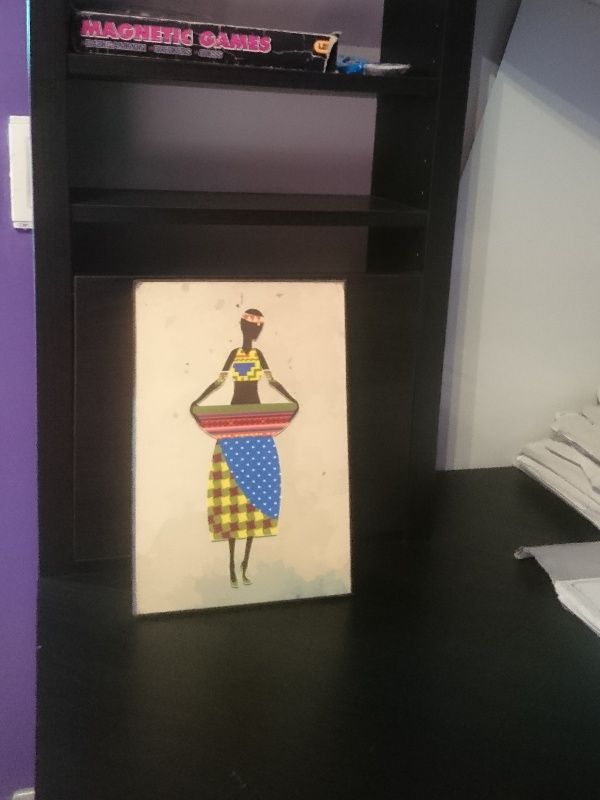my image: (134, 282, 348, 613)
